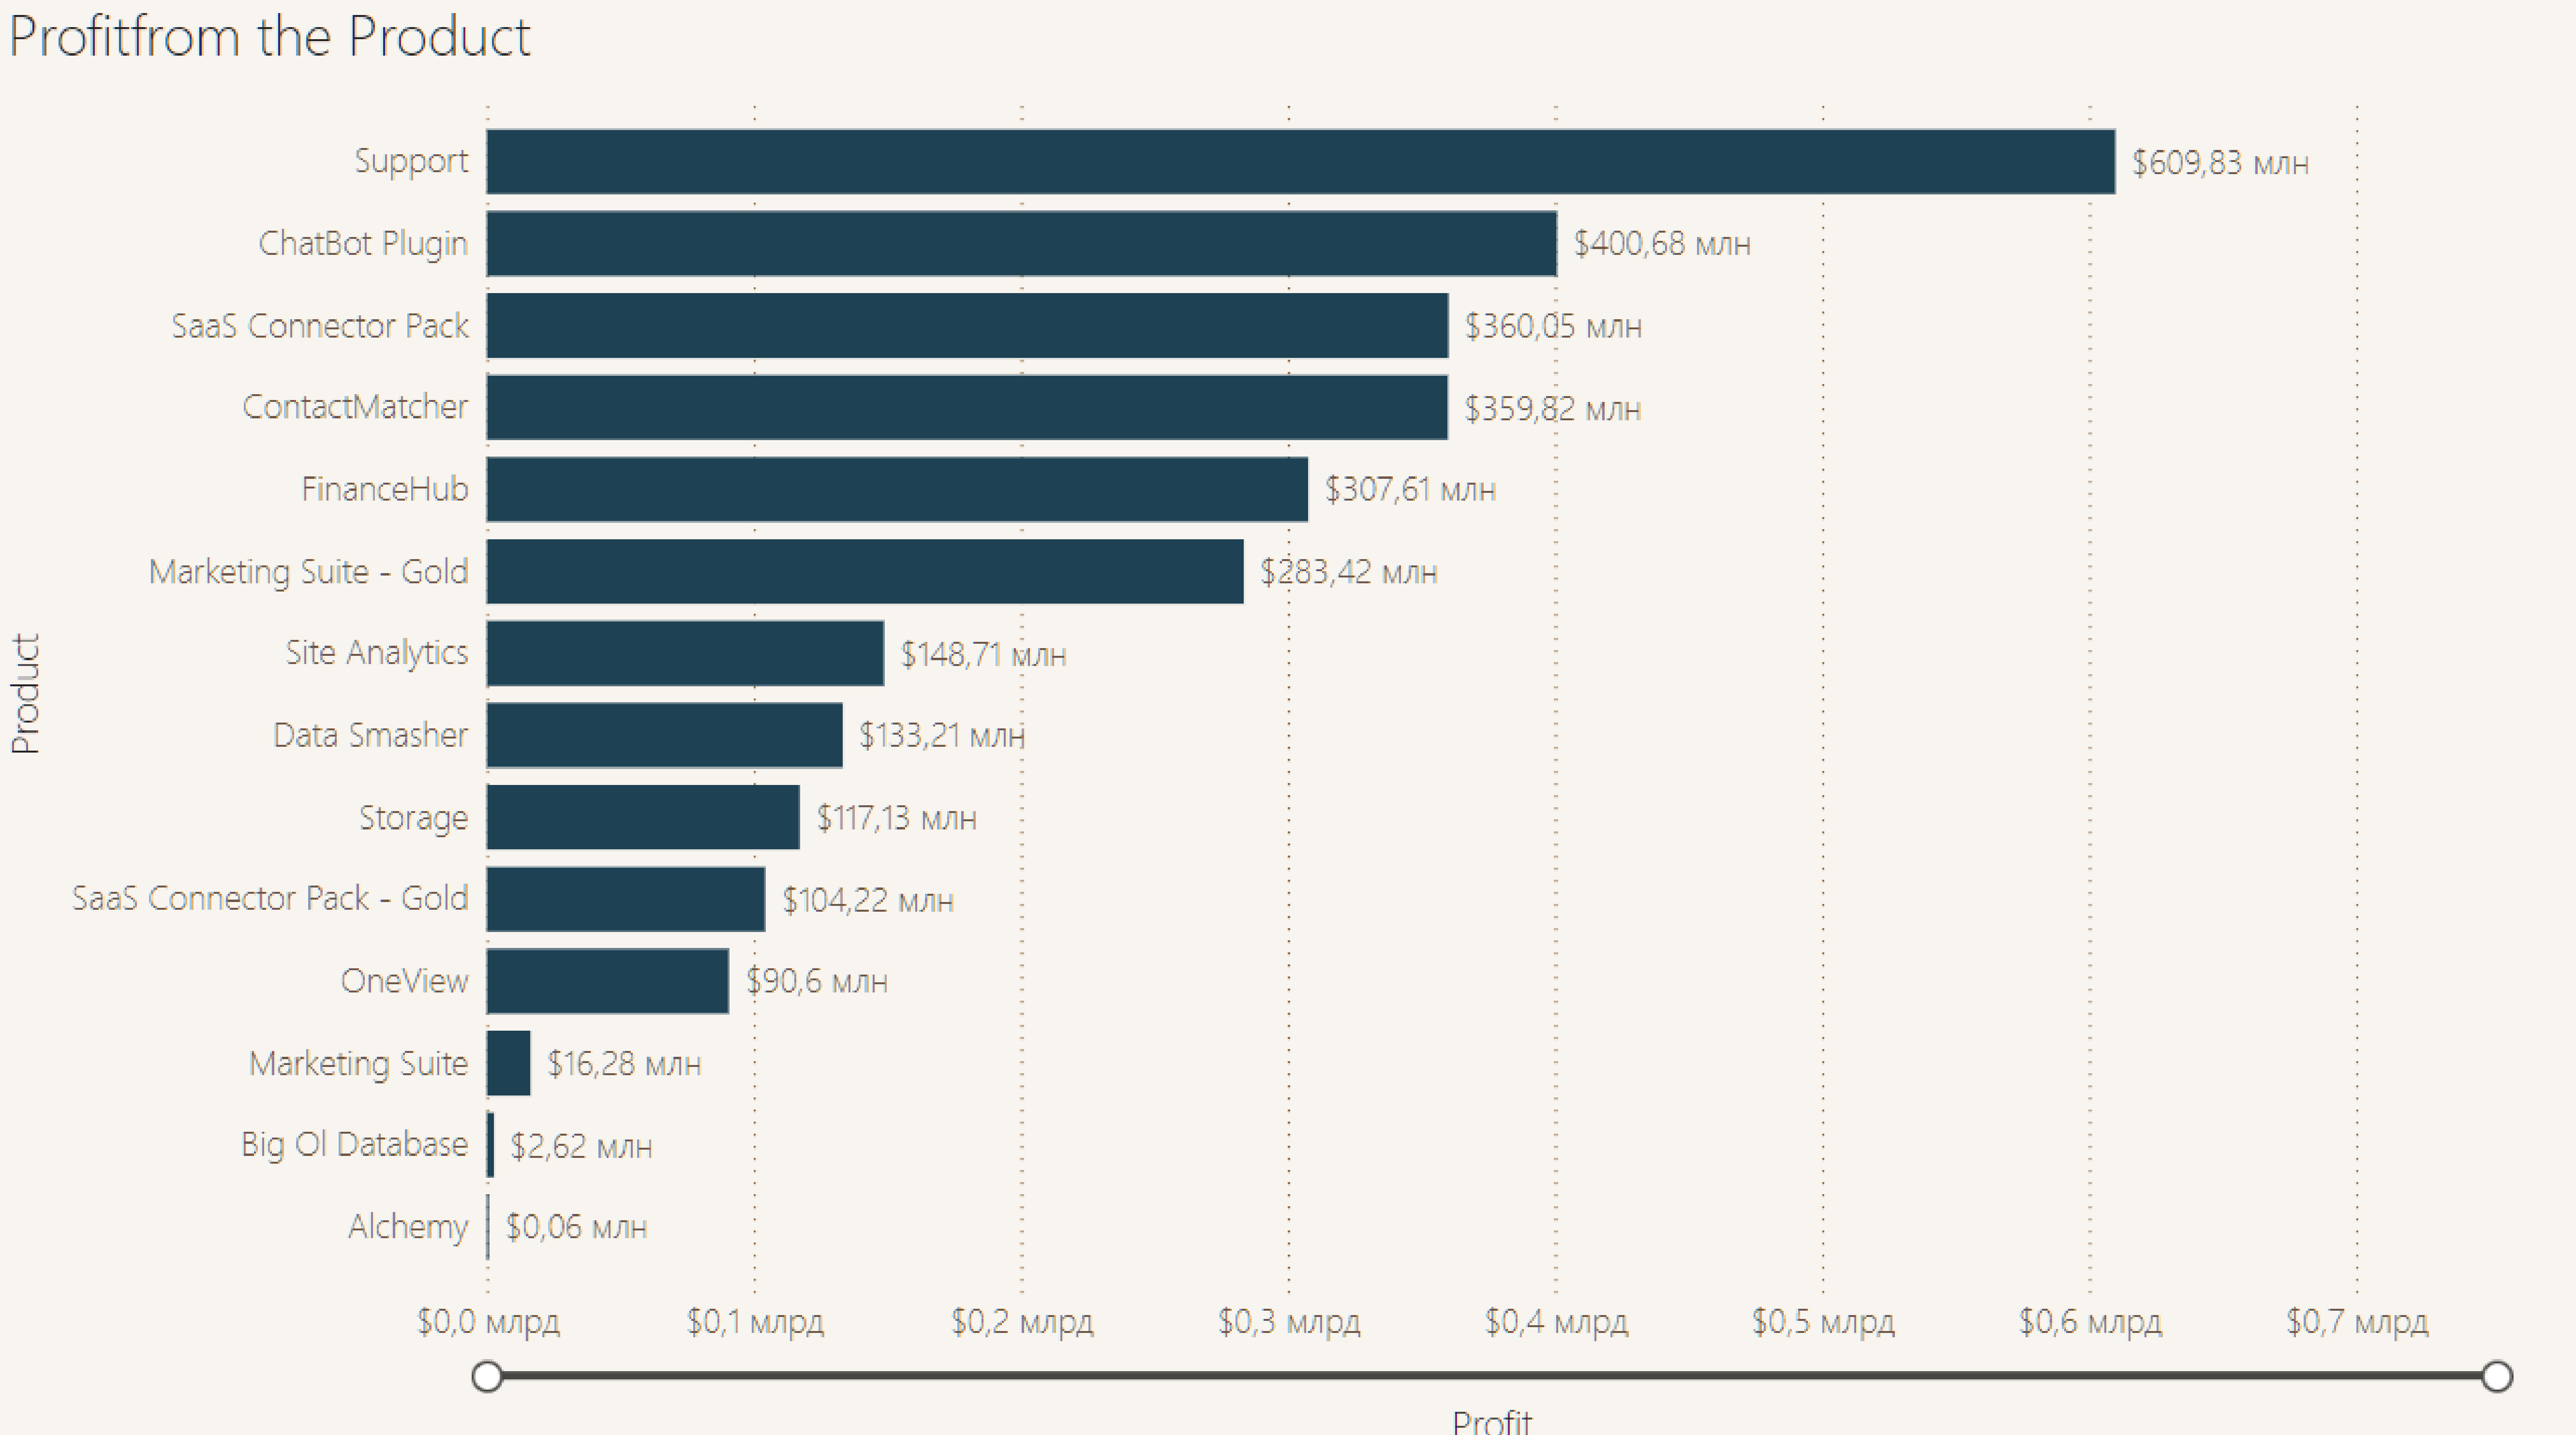

What the dashboard file says about the page in this screenshot:
{"tool":"powerbi","page":{"name":"Profit","canvas":[1280,720],"ordinal":0},"visuals":[{"type":"clusteredBarChart","title":"Profitfrom the  Product","fields":{"Category":["products.Product"],"Y":["Sum(products.Profit)"]},"box":[0,0,1280,720],"z":0}]}

Visuals, with their boxes in screenshot pixels (x1, y1, x2, y2), scaled from the page's 1280x720 canvas onto the 2576x1435 screenshot:
"Profitfrom the  Product" clusteredBarChart: (left=0, top=0, right=2576, bottom=1435)
